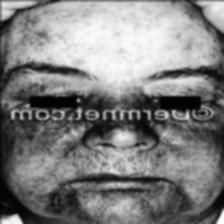Toxin: (42, 184, 84, 216), (94, 120, 161, 138)
